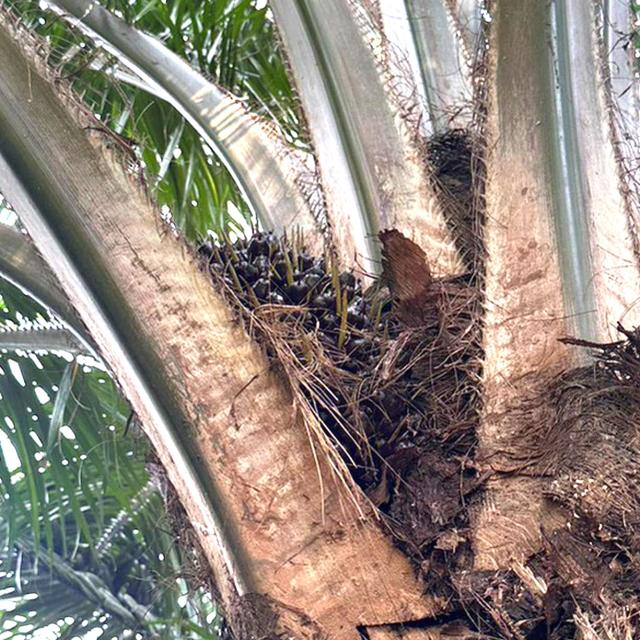ripe: (213, 228, 391, 475)
